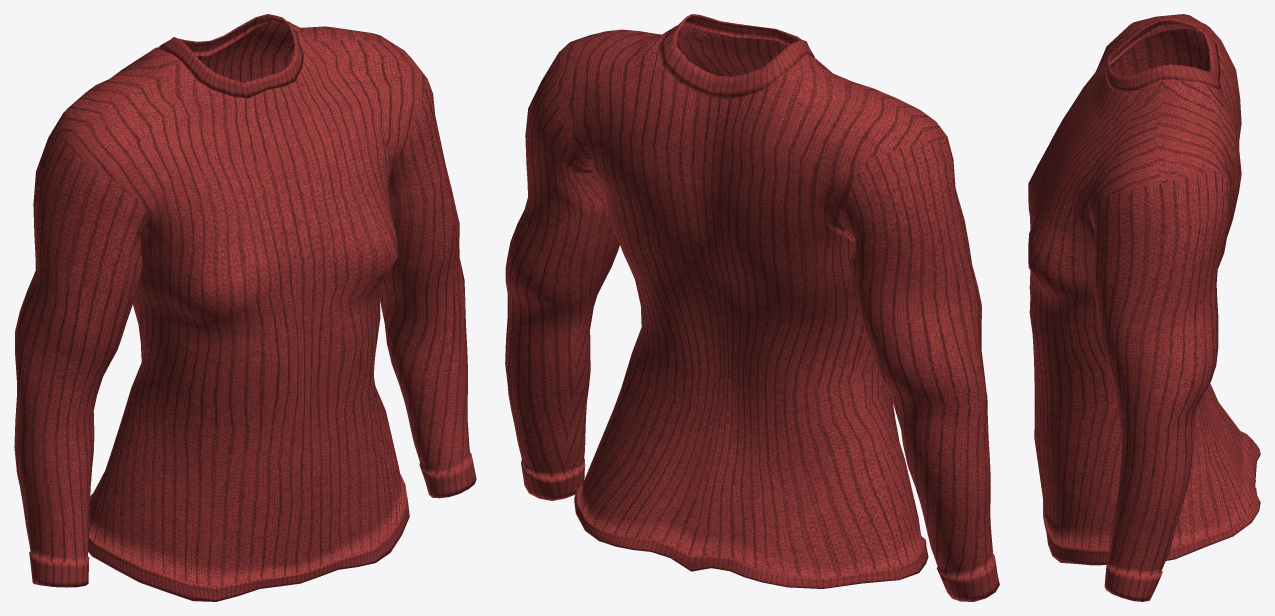
The model's file is top_sweater.gltf.
3 views of the same model, side by side, from view 1: azimuth 30°, elevation 25°; view 2: azimuth 150°, elevation 25°; view 3: azimuth 270°, elevation 25° (orthographic). The views are drawn at different scales.
Parts seen in each view (by area): view 1: top_sweater; view 2: top_sweater; view 3: top_sweater.
Part boxes in pixels (left/top/right/bottom): top_sweater: left=14, top=14, right=476, bottom=601; top_sweater: left=505, top=14, right=999, bottom=601; top_sweater: left=1028, top=14, right=1260, bottom=601.
Bounding box in the file's own units: 0.5055 × 0.5532 × 0.2439.
Materials: 1 (1 with a texture image).
